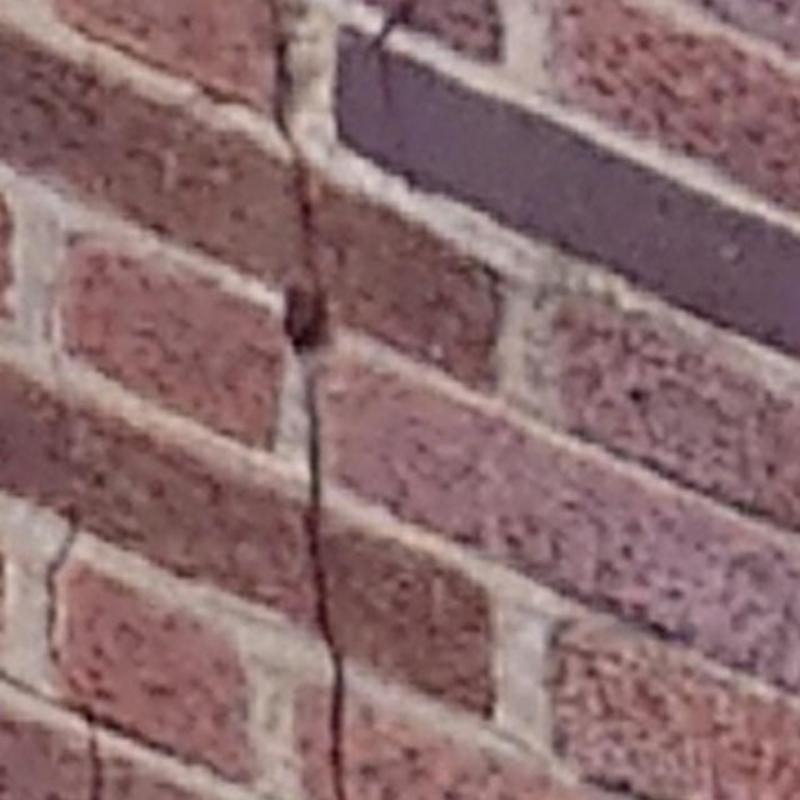pothole: (270, 0, 344, 799), (47, 516, 103, 799), (369, 0, 409, 99)
